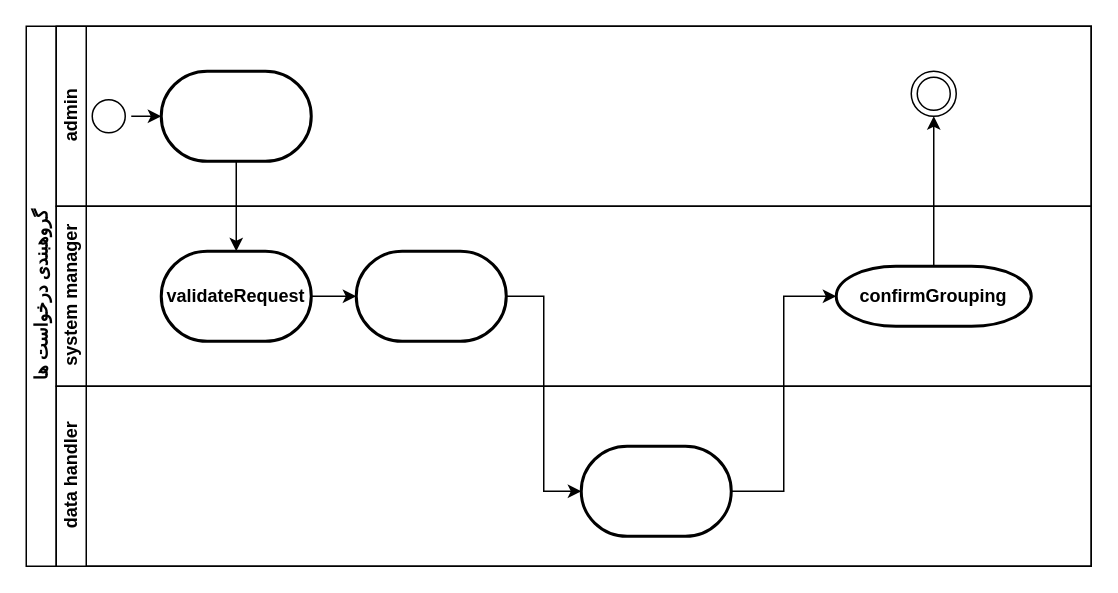
Some shapes in this 1118 by 593 pixel diagram are drawn without their labels. Here are the shapes that lost their labels. From the top down, the centre of each, then its label:
At (235,115): "groupRequest".
At (430,295): "updateGroup".
At (655,490): "savaData".
